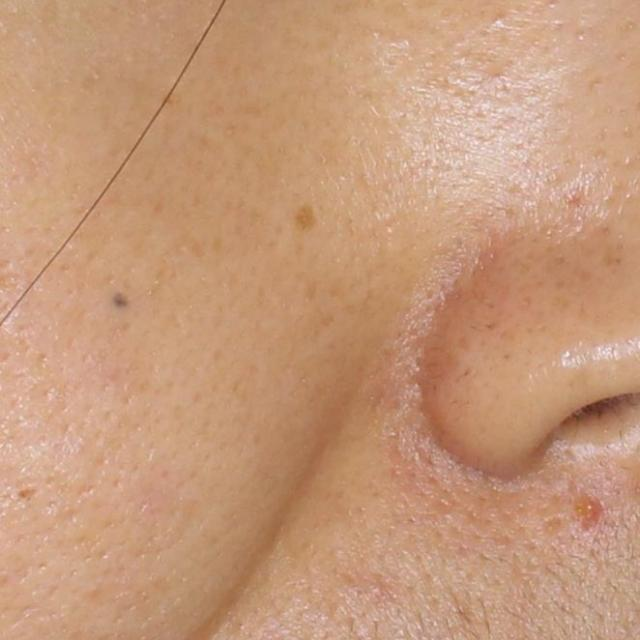blackhead: (114, 297, 125, 306)
